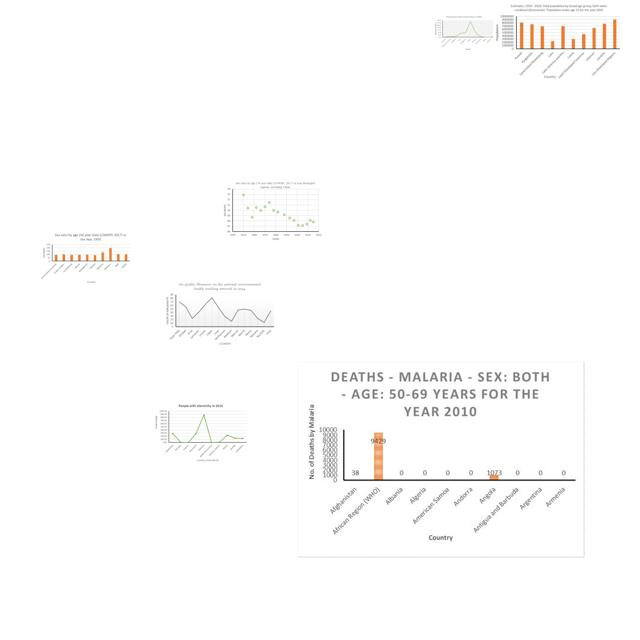Graph: (298, 362, 585, 558), (495, 2, 622, 79), (164, 281, 276, 347), (220, 179, 323, 241), (153, 402, 249, 465), (40, 231, 132, 284), (433, 14, 495, 52)
